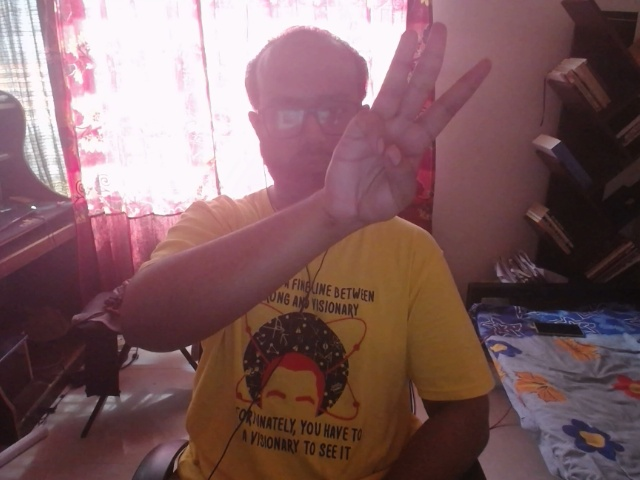three: (321, 13, 503, 240)
